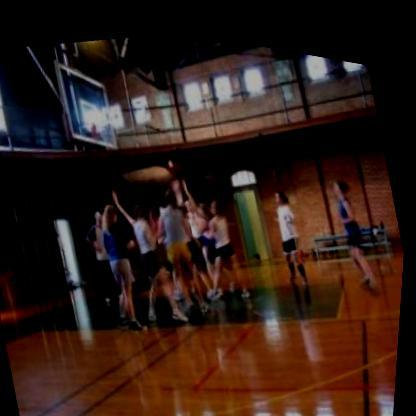basketball: (163, 147, 196, 180)
